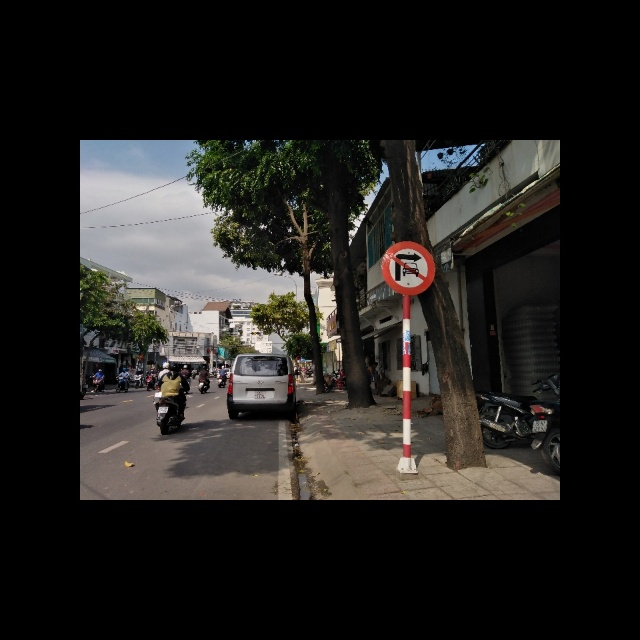Cấm xe ô tô rẽ trái: (382, 241, 438, 294)
